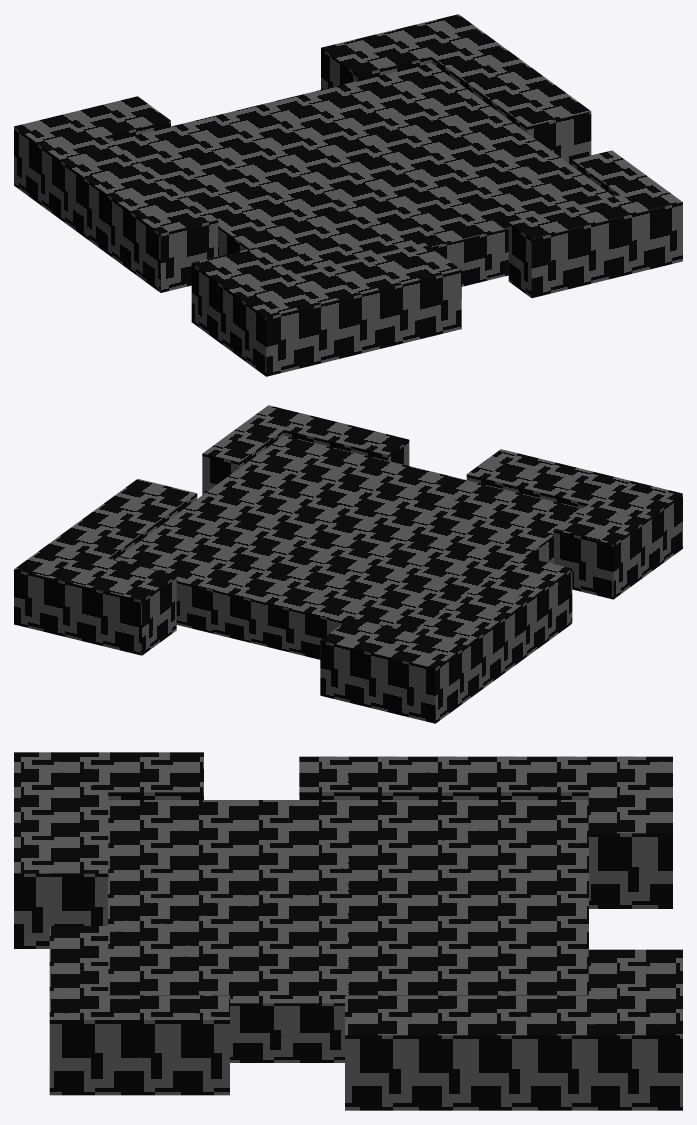
Rendered from Platform.fbx.
The picture shows the model from 3 angles, top to bottom: view 1: azimuth 30°, elevation 25°; view 2: azimuth 150°, elevation 25°; view 3: azimuth 270°, elevation 25°; orthographic projection. The views are drawn at different scales.
Parts seen in each view (by area): view 1: Объект Куб, Объект Куб.2; view 2: Объект Куб, Объект Куб.2; view 3: Объект Куб, Объект Куб.2.
Boxes of the visible parts, x1=… form: Объект Куб: x1=14, y1=14, x2=682, y2=376; Объект Куб.2: x1=111, y1=63, x2=613, y2=286; Объект Куб: x1=14, y1=405, x2=682, y2=723; Объект Куб.2: x1=114, y1=435, x2=582, y2=659; Объект Куб: x1=14, y1=752, x2=682, y2=1110; Объект Куб.2: x1=108, y1=800, x2=588, y2=1062.
Bounding box in the file's own units: 278 × 34.59 × 278.
Materials: 2 (2 with a texture image).
